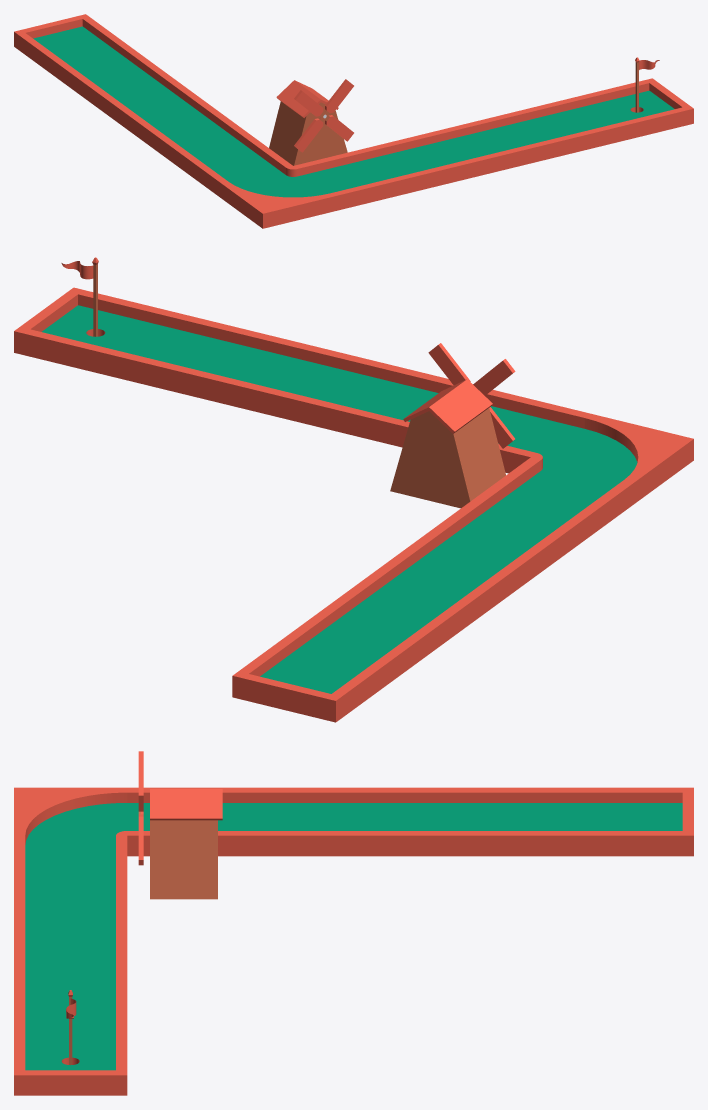
The model's file is golf1.obj.
3 views of the same model, one above another, from view 1: azimuth 30°, elevation 25°; view 2: azimuth 150°, elevation 25°; view 3: azimuth 270°, elevation 25° (orthographic). The views are drawn at different scales.
Parts seen in each view (by area): view 1: mergedBlocks; view 2: mergedBlocks; view 3: mergedBlocks.
Boxes of the visible parts, left/top/right/bottom form: mergedBlocks: left=14, top=14, right=693, bottom=228; mergedBlocks: left=14, top=257, right=693, bottom=722; mergedBlocks: left=14, top=751, right=693, bottom=1095.
Bounding box in the file's own units: 6 × 1.11 × 6.
